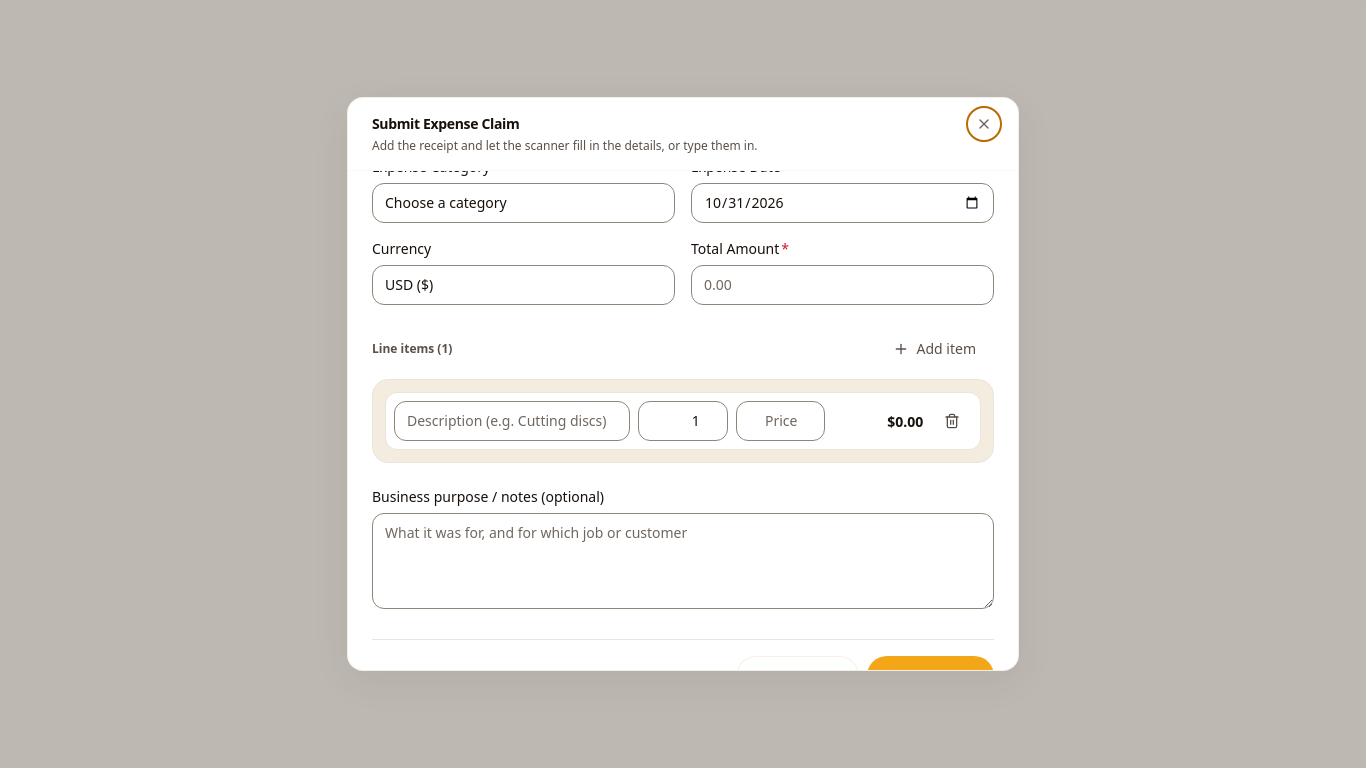
SubmitExpenseModal Component › adds and removes line items, calculating dynamic totals
(page scrolled)
Expected: the element with test id "line-item-row-0" is shown, [385, 392, 981, 450]
Type "Lunch with Client" into the field with test id "line-item-desc-0". click: (512, 421)
box: [394, 401, 630, 441]
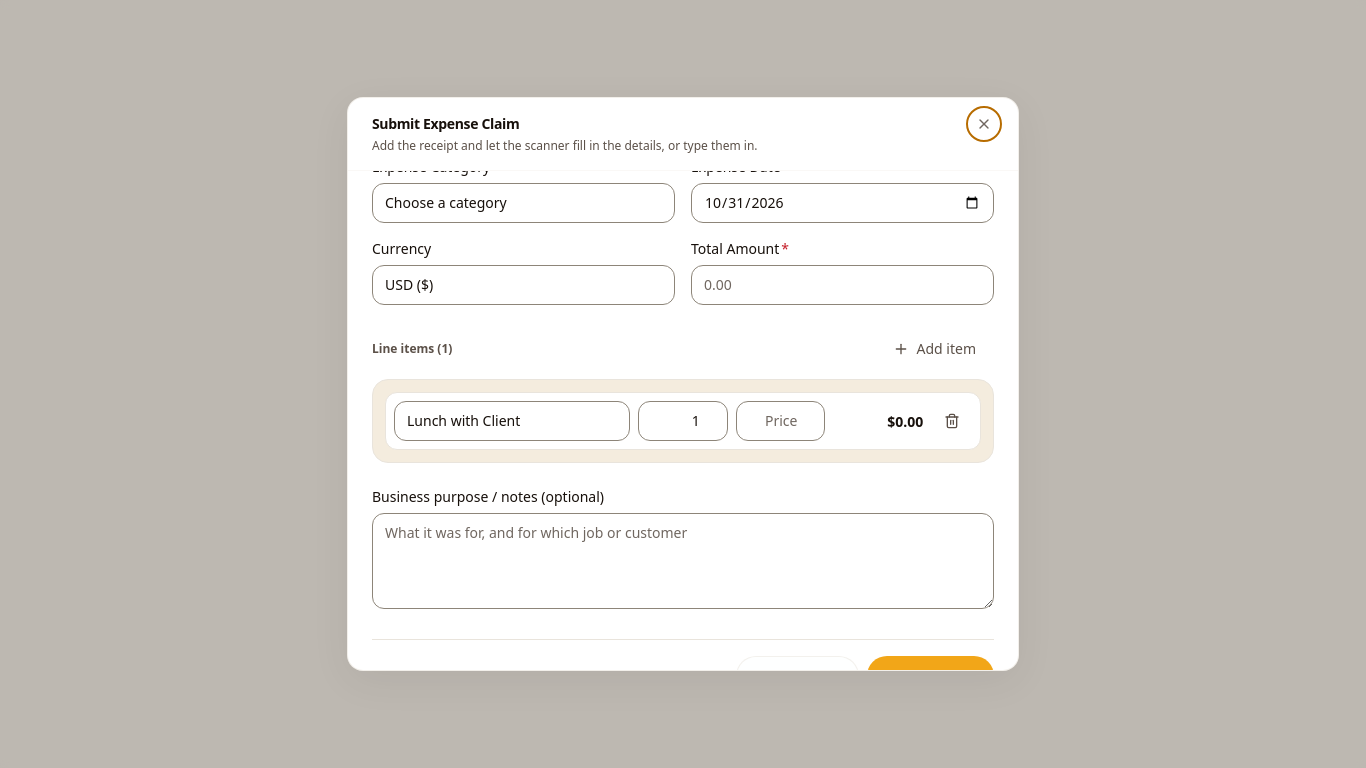
Replace the text in the number field with test id "line-item-qty-0" with "2". click: (683, 421)
box: [638, 401, 728, 441]
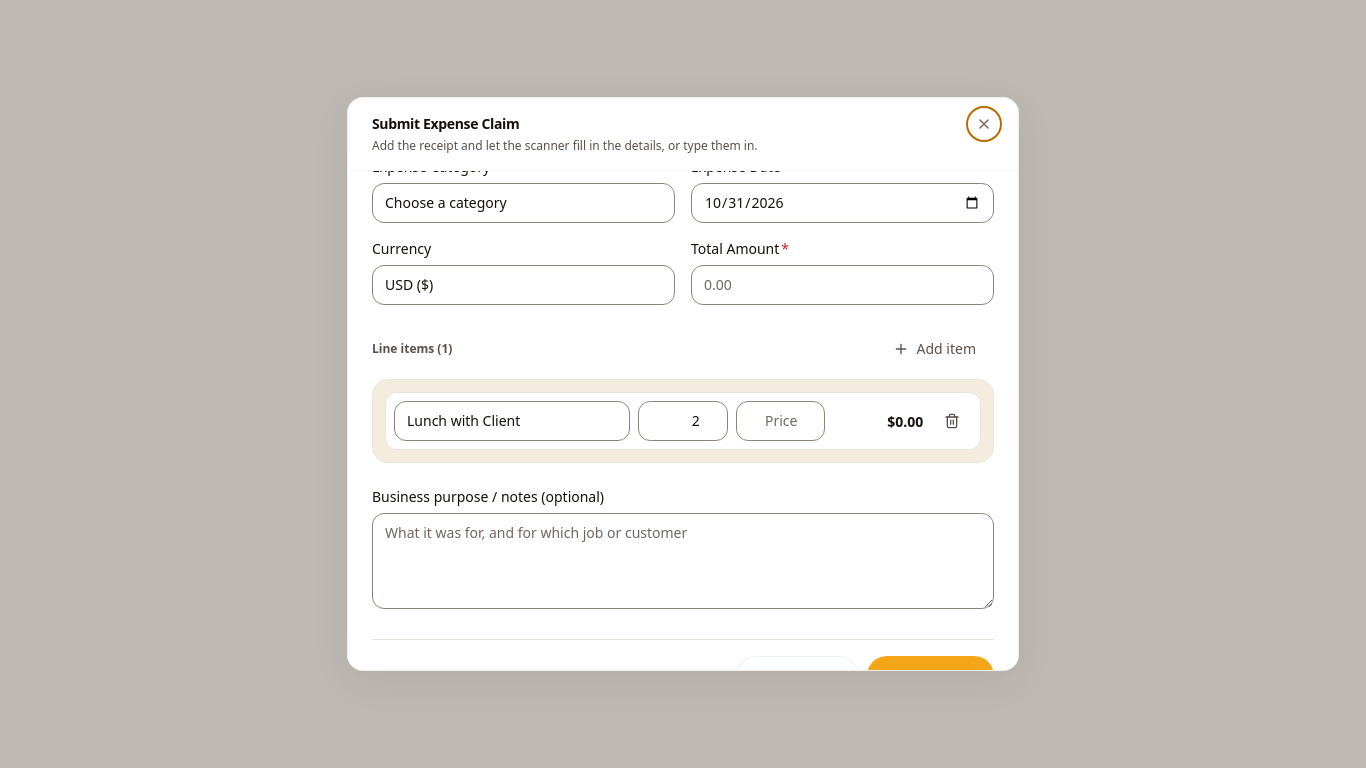
Type "50" into the number field with test id "line-item-price-0". click: (781, 421)
box: [736, 401, 826, 441]
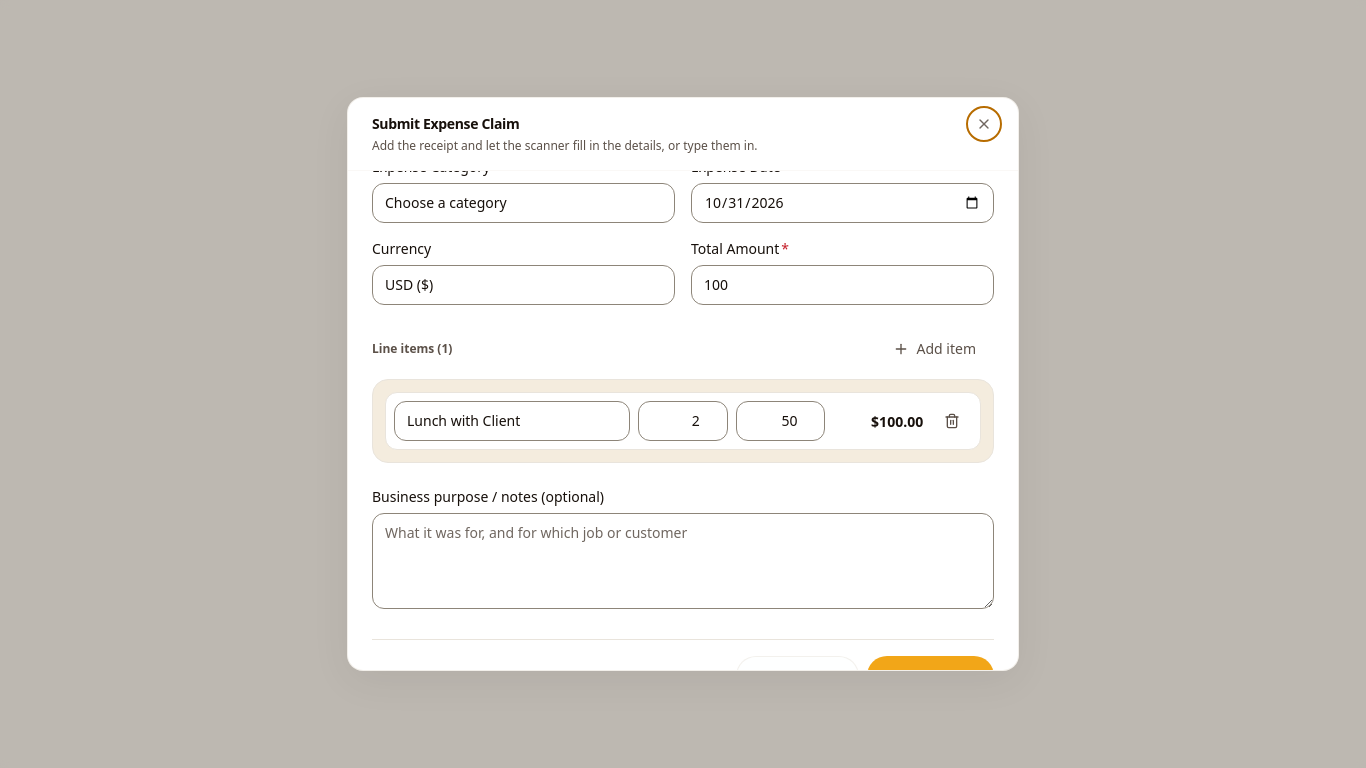
Result: the text with test id "line-item-total-0" reads "$100.00" at [871, 412, 923, 431]
Result: the number field with test id "input-amount" holds "100" at [691, 265, 994, 305]
Note: A line total is in the claim's currency, not a hard-coded dollar.
Select "AED (د.إ)" in the dropdown with test id "select-currency". click: (524, 285)
box: [372, 265, 675, 305]
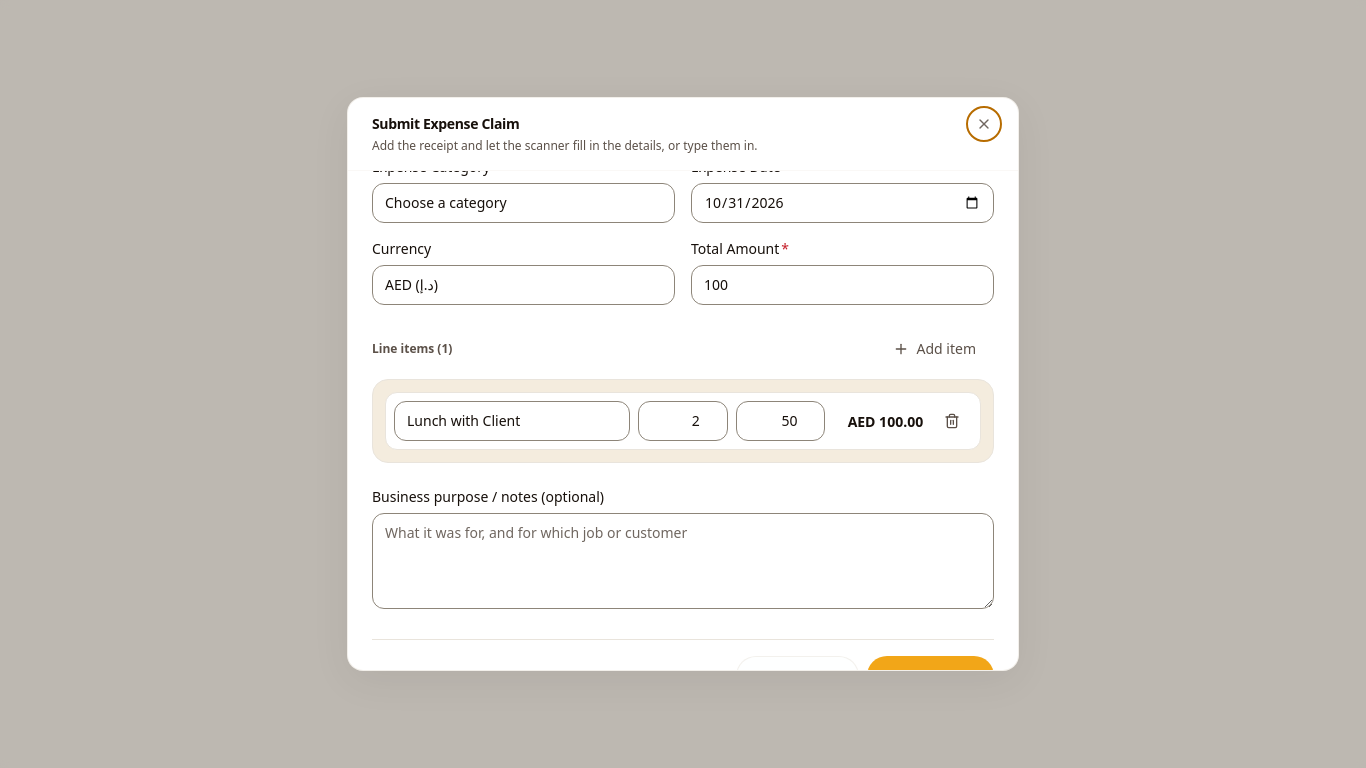
Result: the text with test id "line-item-total-0" reads "AED 100.00" at [848, 412, 923, 431]
Note: Click Add Line Item
Click the button with test id "btn-add-line-item". click: (934, 349)
box: [874, 329, 994, 369]
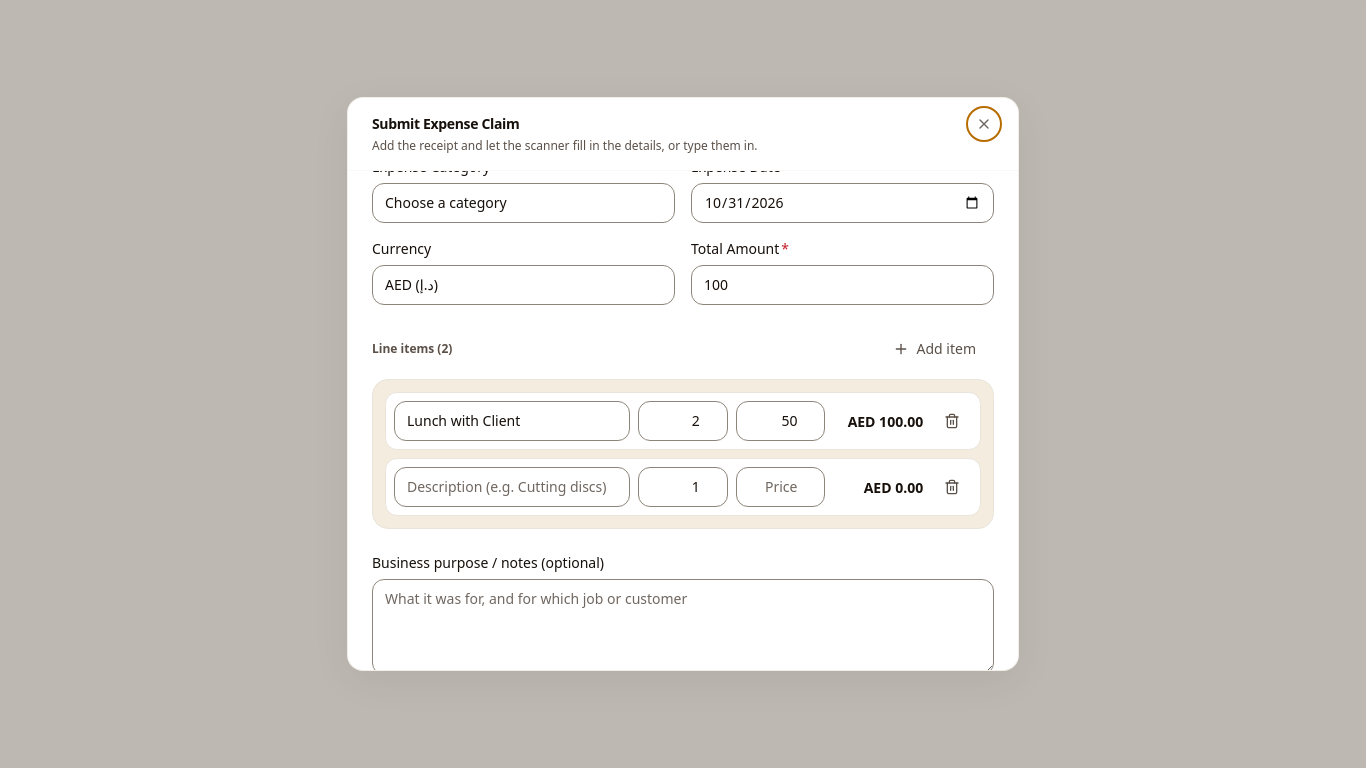
Result: the element with test id "line-item-row-1" is shown at [385, 458, 981, 516]
